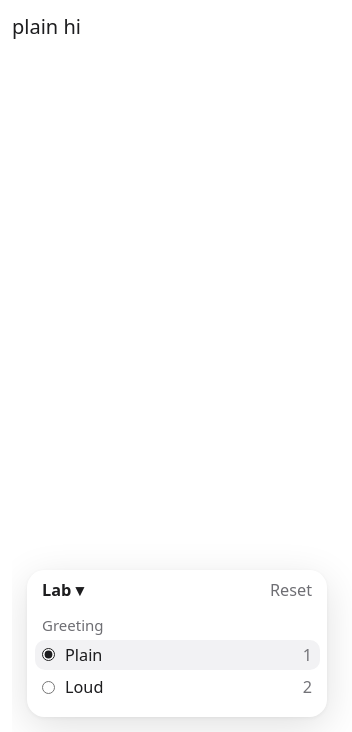
Test case: lab › renders the first option until the panel picks another
The image size is (352, 732).
expect the text "plain hi" is shown: met, box [12,13,81,40]
Click the radio button labelled "Loud 2".
click(48, 687)  # box [42,680,55,694]
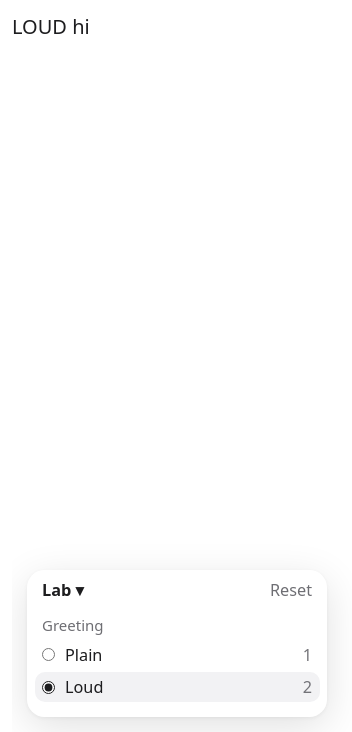
expect the text "LOUD hi" is shown: met, box [12,13,90,40]
expect the text "plain hi" is gone: met
